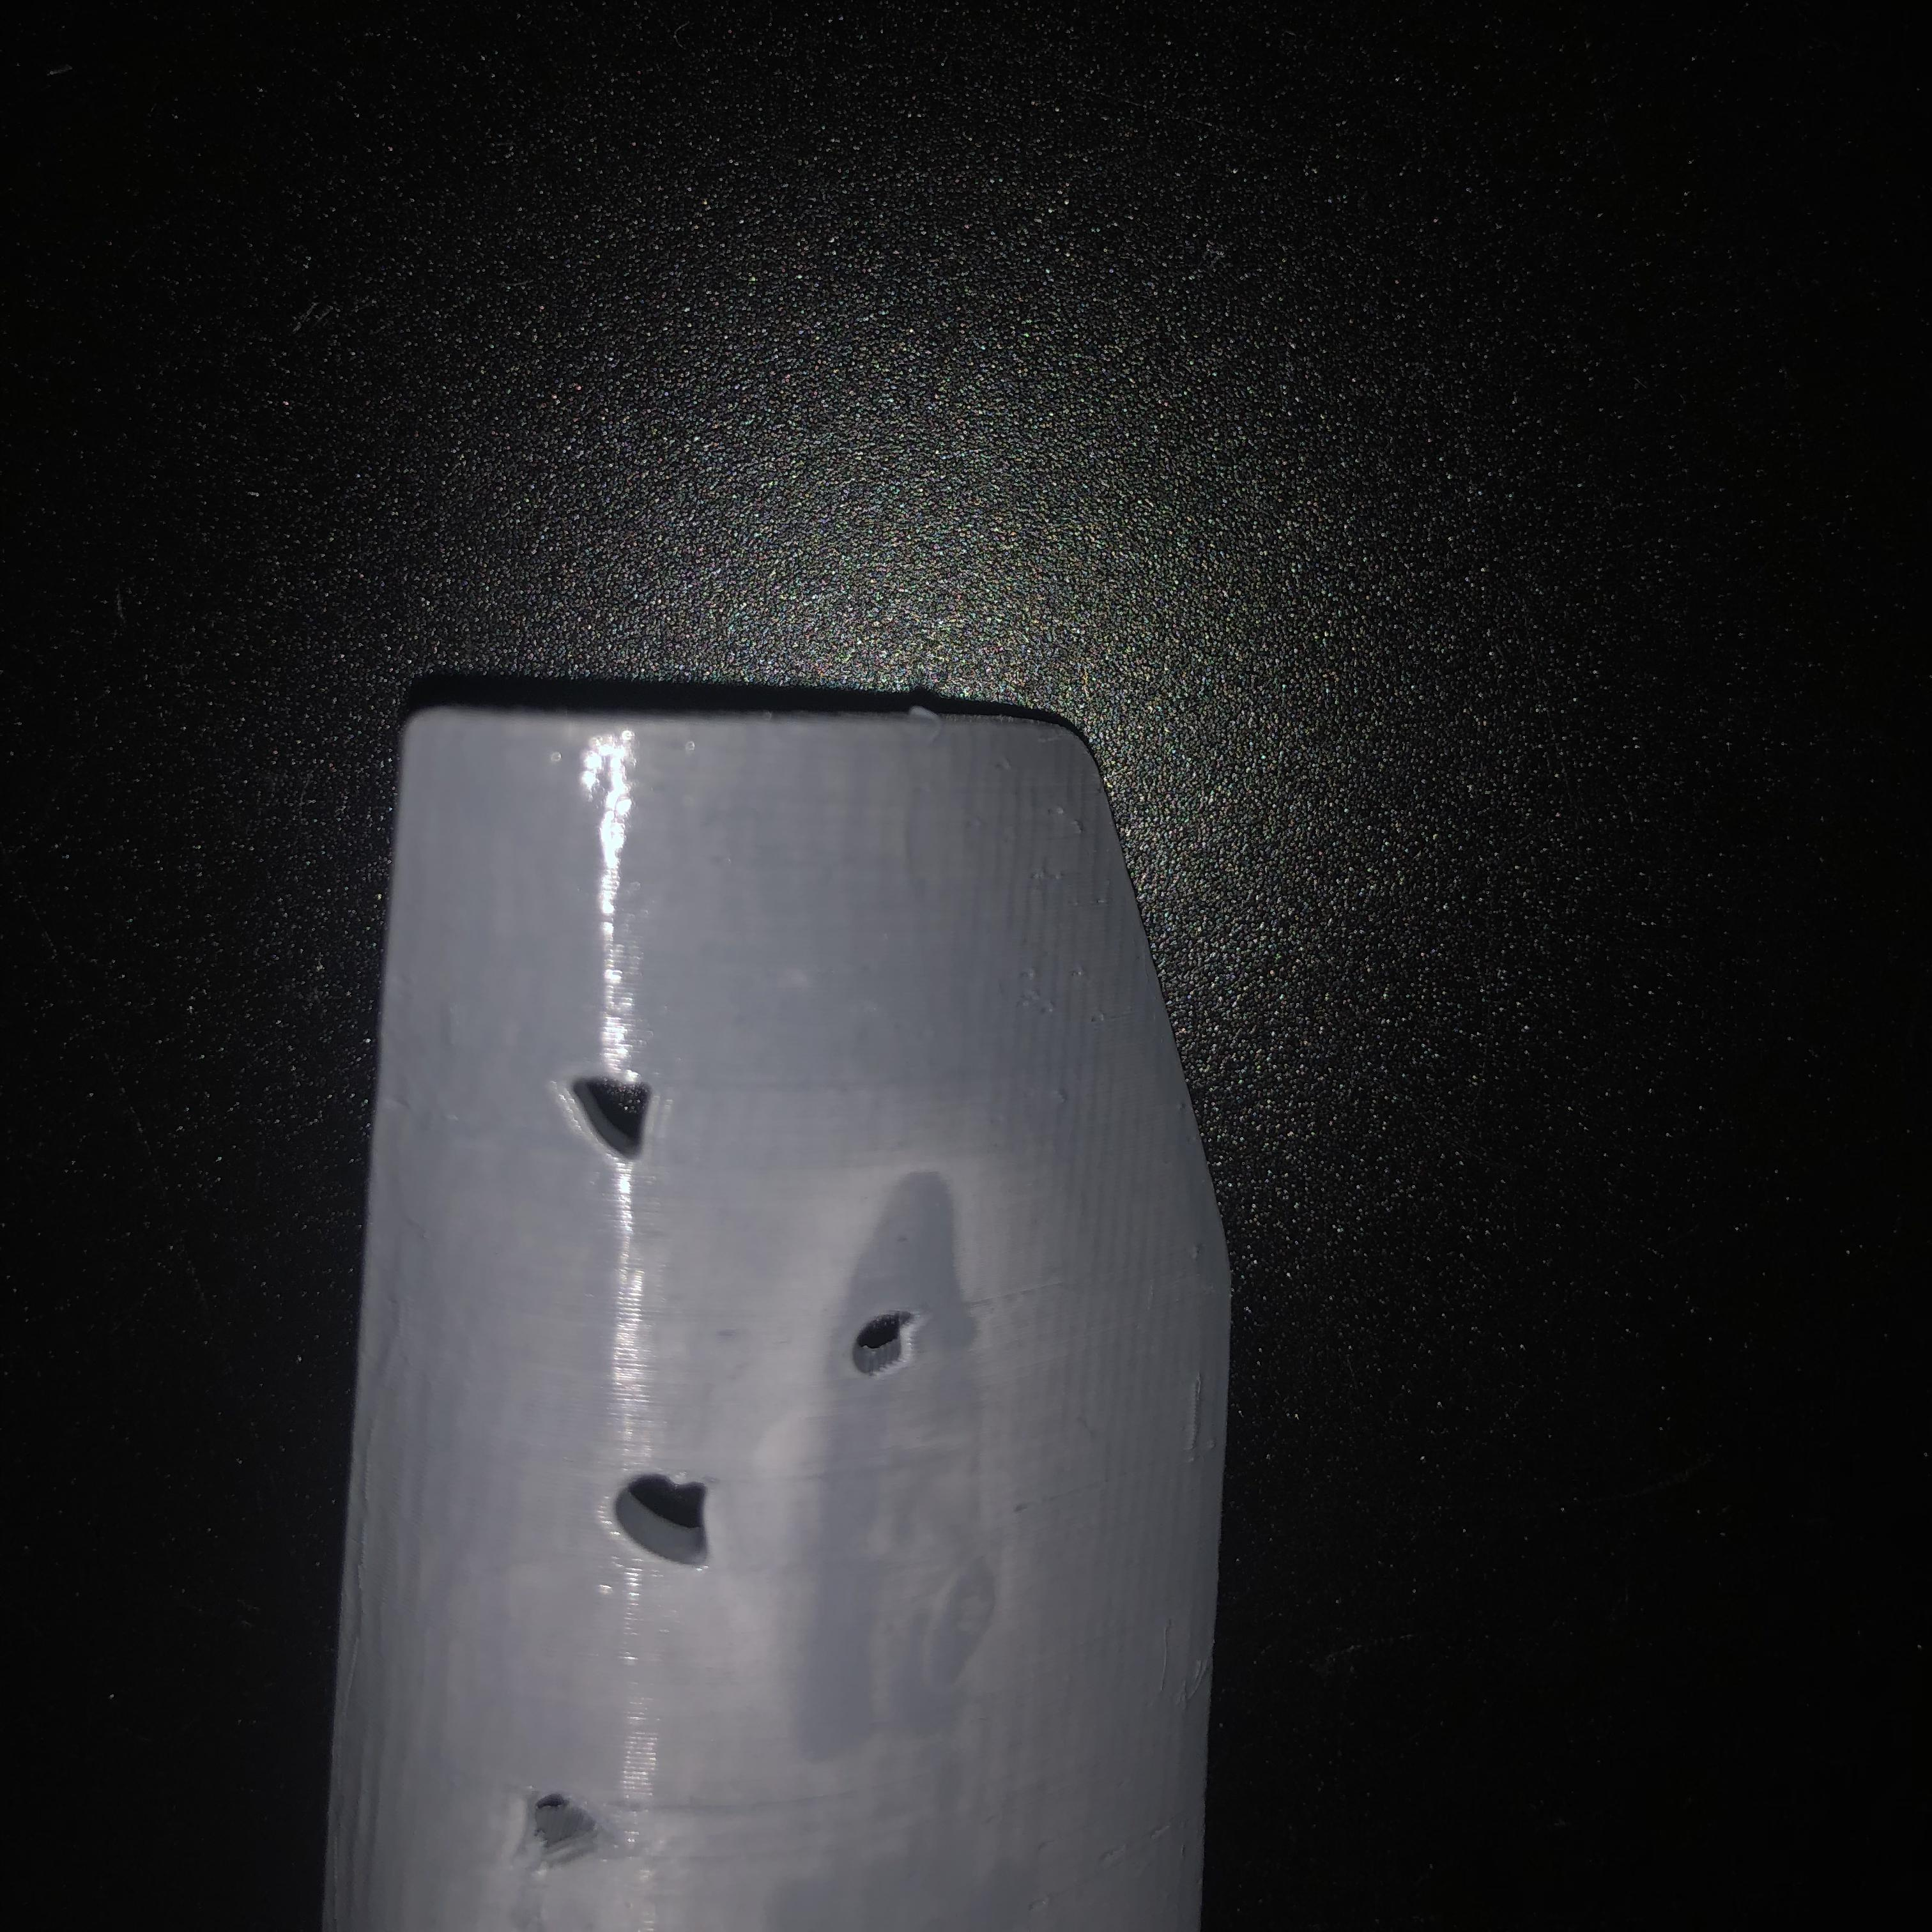breakdown: (571, 1074, 922, 1573), (529, 1773, 616, 1872)
